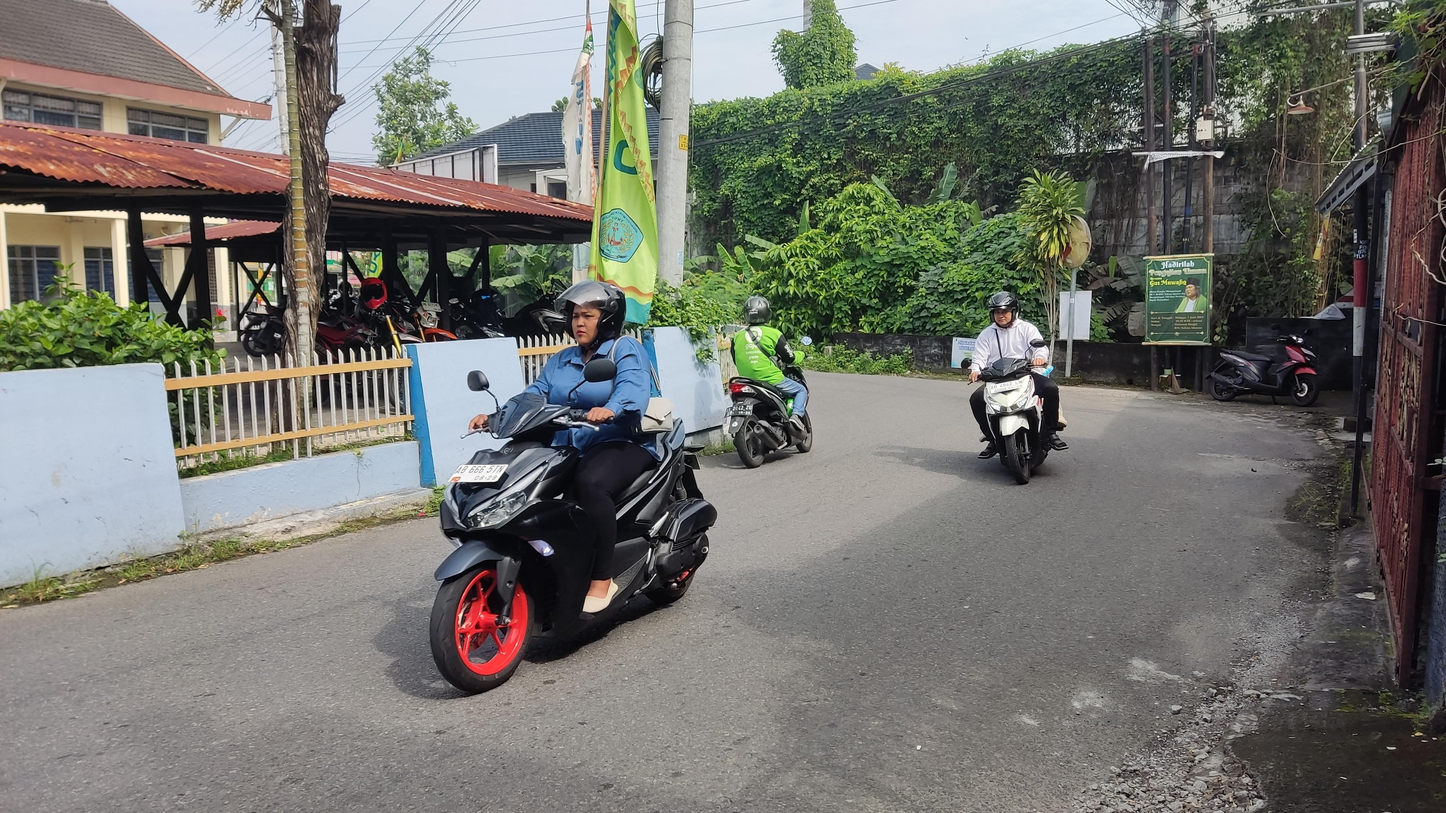helm: (557, 275, 633, 358), (983, 284, 1024, 334), (740, 289, 777, 332)
riding: (428, 275, 722, 702), (960, 283, 1077, 490), (717, 287, 829, 477)
